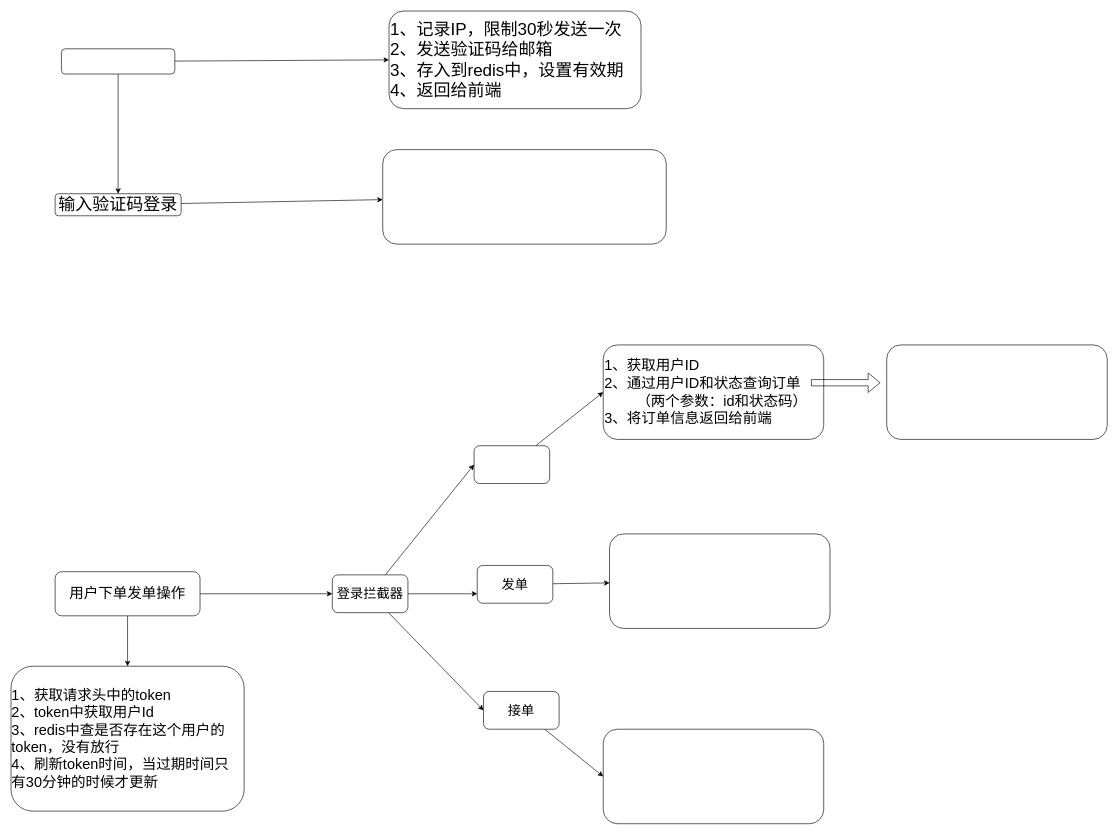
Some shapes in this 1118 by 835 pixel diagram are drawn without their labels. Each missing label, with the centre of its shape:
"1、从redis中获取验证码进行校验 2、存入到数据库中 3、生成token，存入到redis中 4、将token返回给前端" goes at [524,196].
"1、接收前端参数并校验 2、存储到数据库中 3、将订单信息返回给前端" goes at [719,580].
"查看单" goes at [511,464].
"请求验证码" goes at [118,61].
